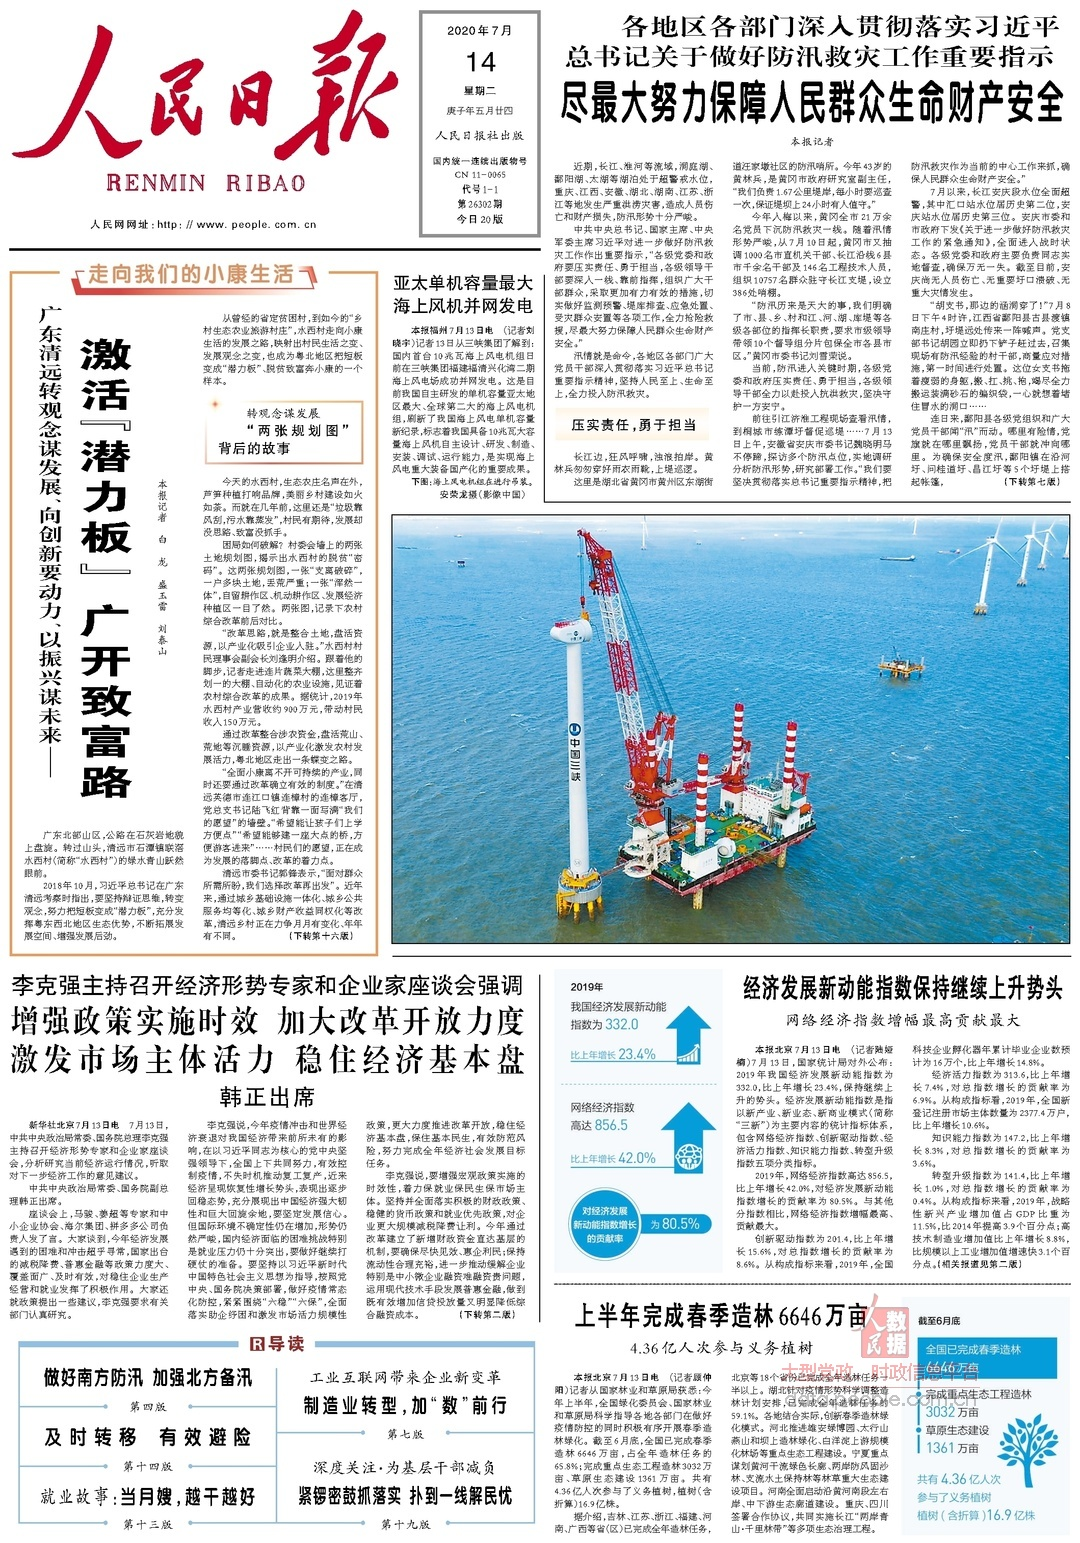pic: (387, 509, 1076, 952)
